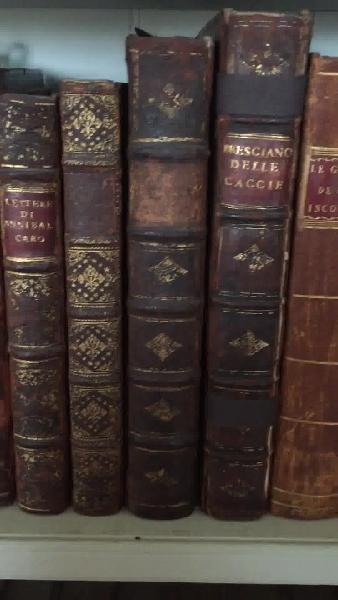Aa6-29: (1, 86, 75, 515)
Aa6-30: (47, 86, 135, 521)
Aa6-31: (123, 19, 210, 517)
Aa6-32: (206, 3, 288, 518)
